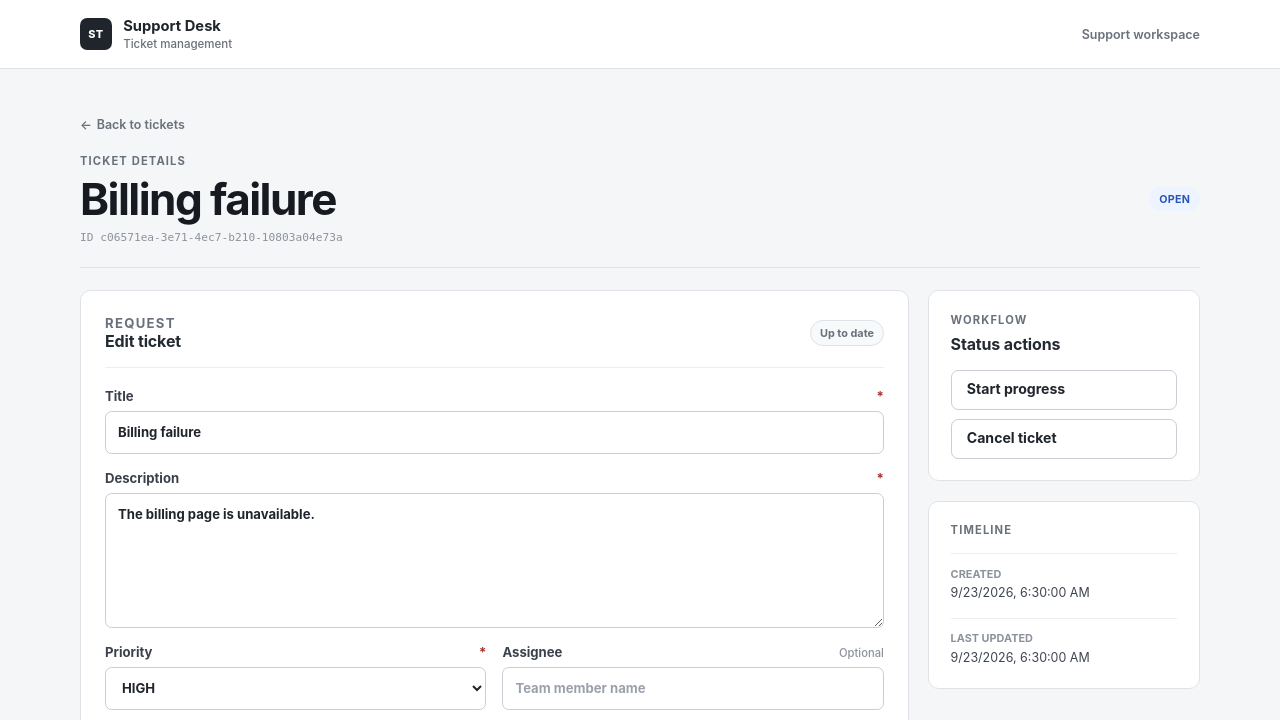
Test: support ticket application › shows invalid-transition details and reloads authoritative status
The image size is (1280, 720).
Step 1. Replace the text in the field labelled "Title" with "Unsaved draft title" → (494, 432), box x1=105 y1=411 x2=884 y2=454
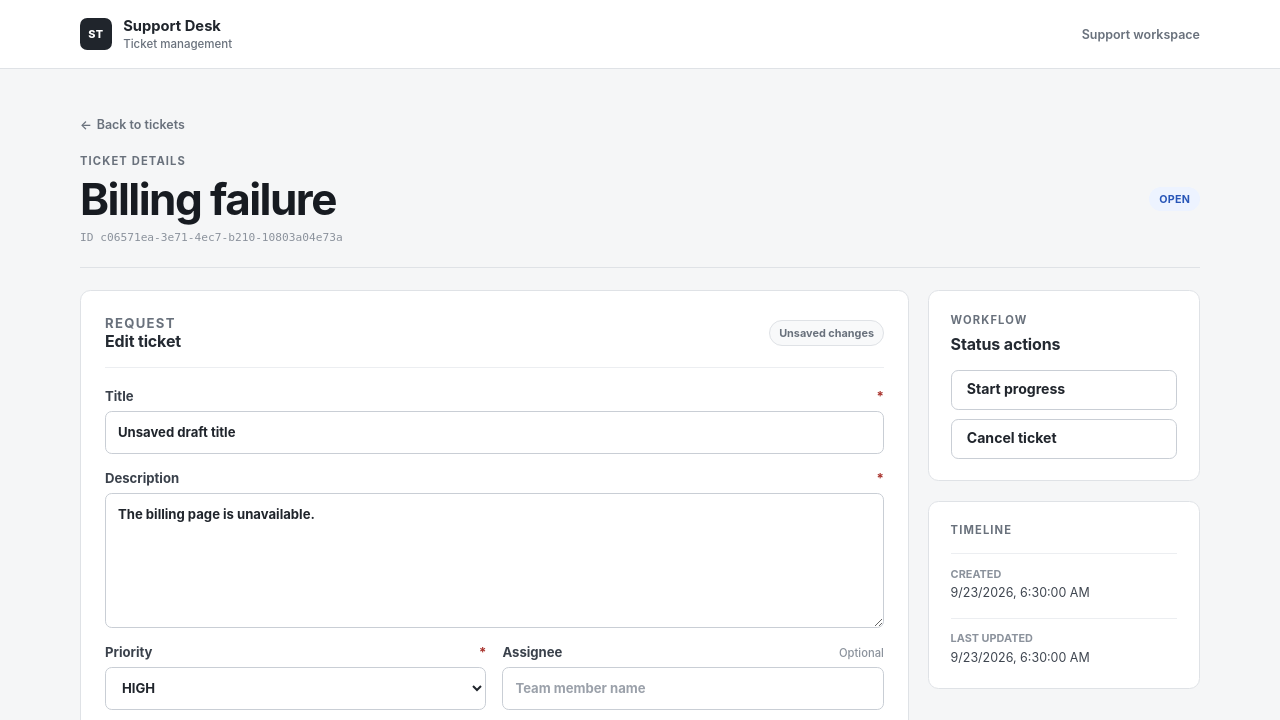
Step 2. Click the button "Start progress" → (1064, 390), box x1=951 y1=370 x2=1177 y2=410
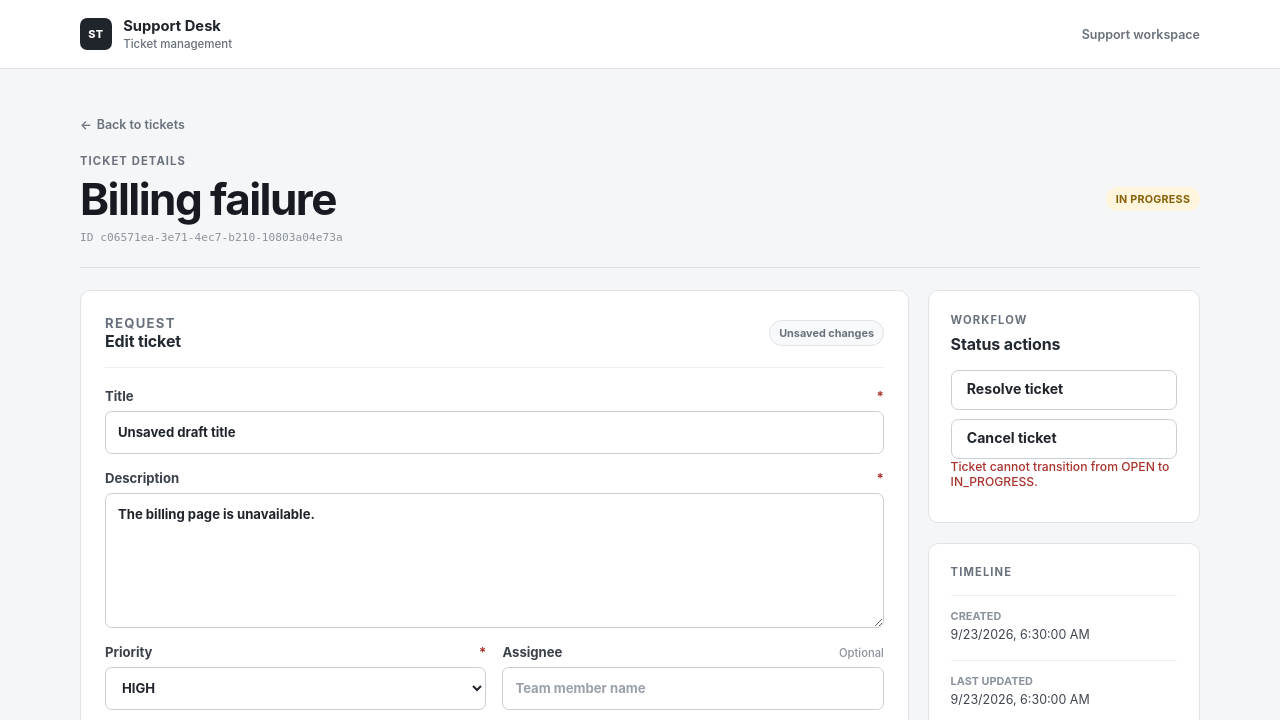
Now the text "Ticket cannot transition from OPEN to IN_PROGRESS." is shown, box x1=951 y1=459 x2=1177 y2=489
Now the button "Resolve ticket" is shown, box x1=951 y1=370 x2=1177 y2=410
